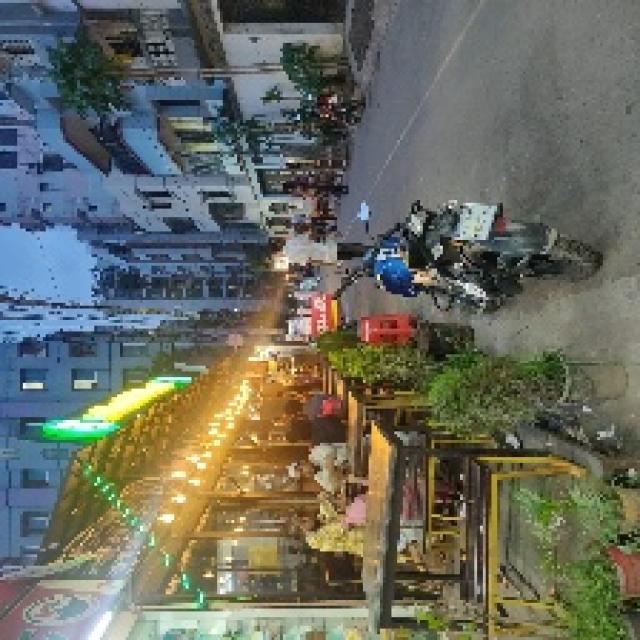bike: (341, 205, 587, 306)
